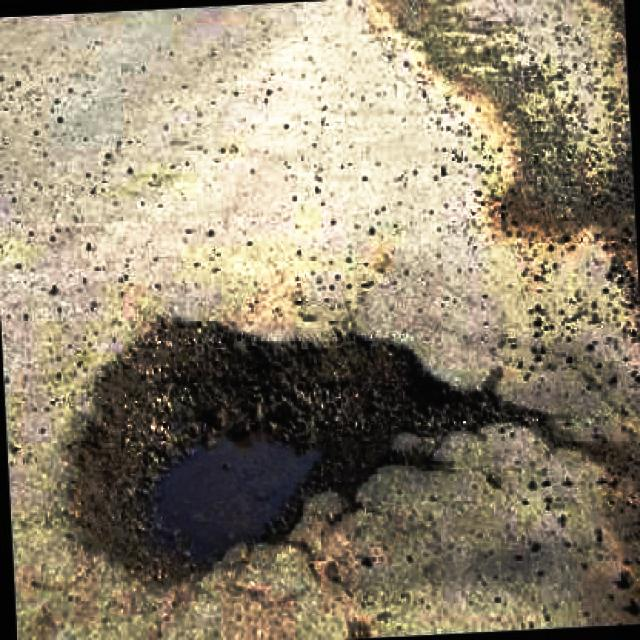pothole: (60, 309, 543, 589)
